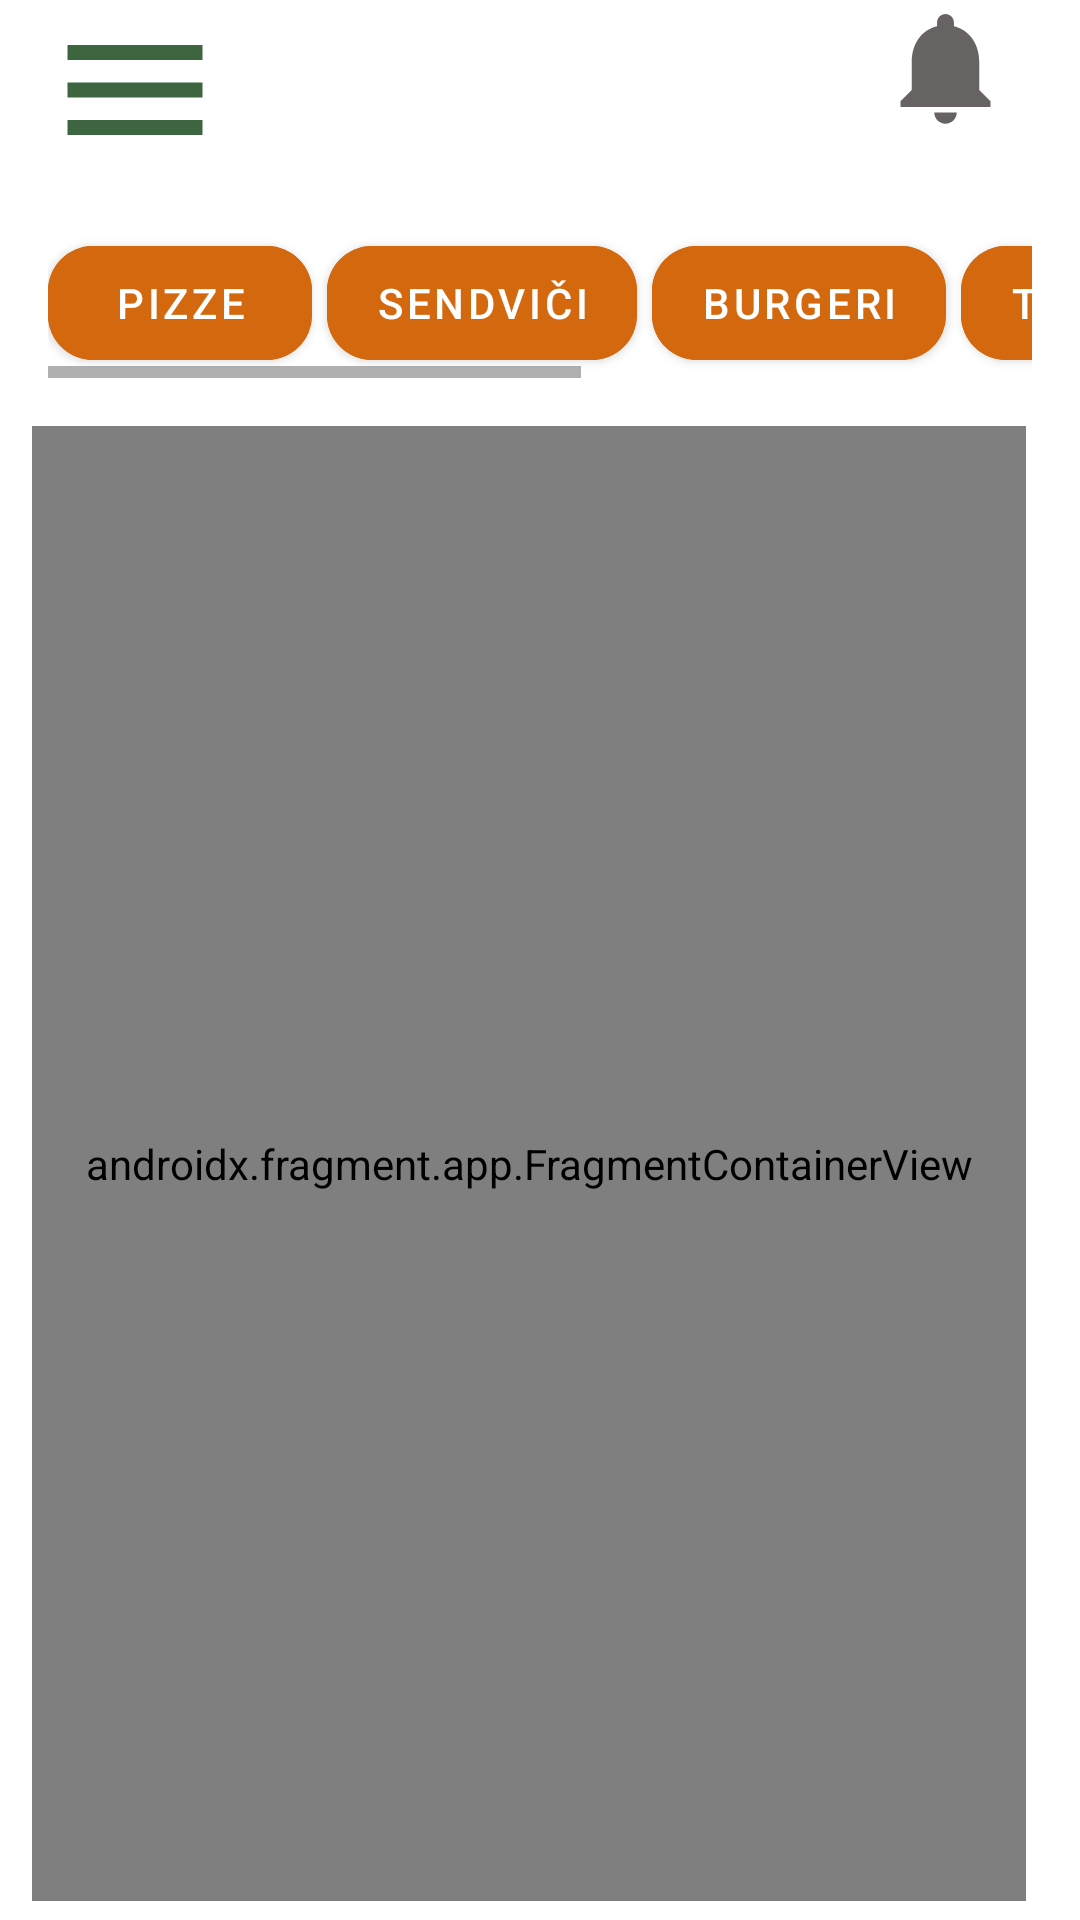

Where icons sit on this 1080×1920 app screen, as (x1, y1, x2, y2):
menu: (67, 45, 203, 135)
notifications: (900, 14, 991, 124)
